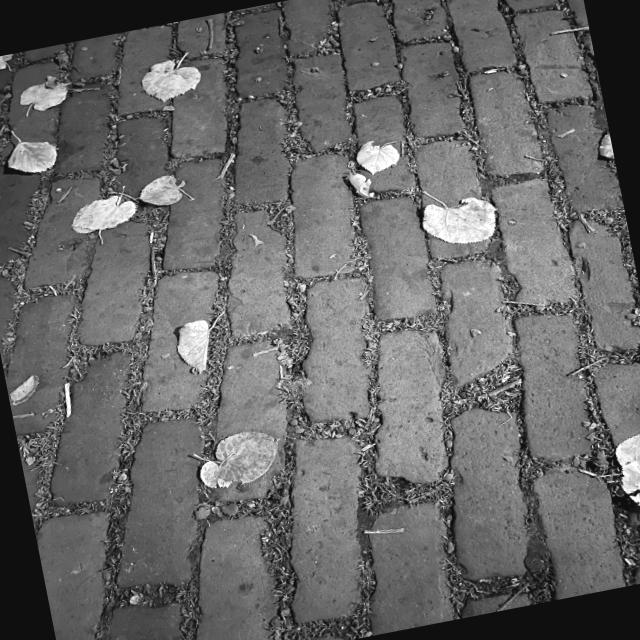leaves: (60, 175, 202, 238), (412, 185, 516, 257), (339, 130, 419, 202), (212, 431, 292, 490), (0, 125, 76, 183), (137, 52, 210, 108), (9, 74, 94, 122), (607, 436, 640, 518), (174, 317, 222, 369), (228, 192, 292, 222)
pavement: (205, 0, 596, 160), (447, 412, 525, 564), (494, 178, 576, 307), (534, 471, 620, 591), (124, 432, 202, 556), (296, 453, 360, 591), (224, 214, 300, 326), (381, 334, 446, 464), (300, 306, 374, 414), (449, 263, 516, 379), (290, 159, 360, 268), (181, 167, 234, 254), (70, 392, 118, 468), (150, 270, 216, 325), (60, 94, 109, 160), (96, 248, 141, 318), (49, 203, 87, 269), (172, 100, 220, 146), (128, 27, 176, 68), (121, 80, 142, 114)
weed: (397, 82, 423, 149)
weedling: (0, 21, 639, 639)
